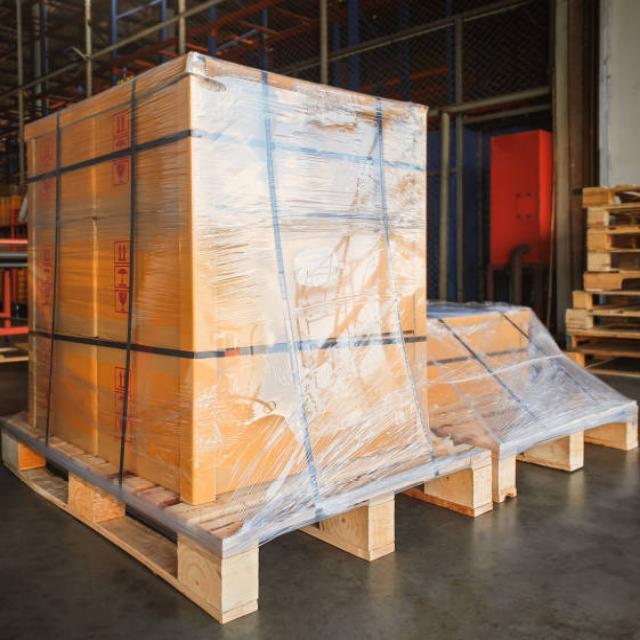Wooden-Pallets: (0, 402, 497, 630), (495, 397, 640, 509)
